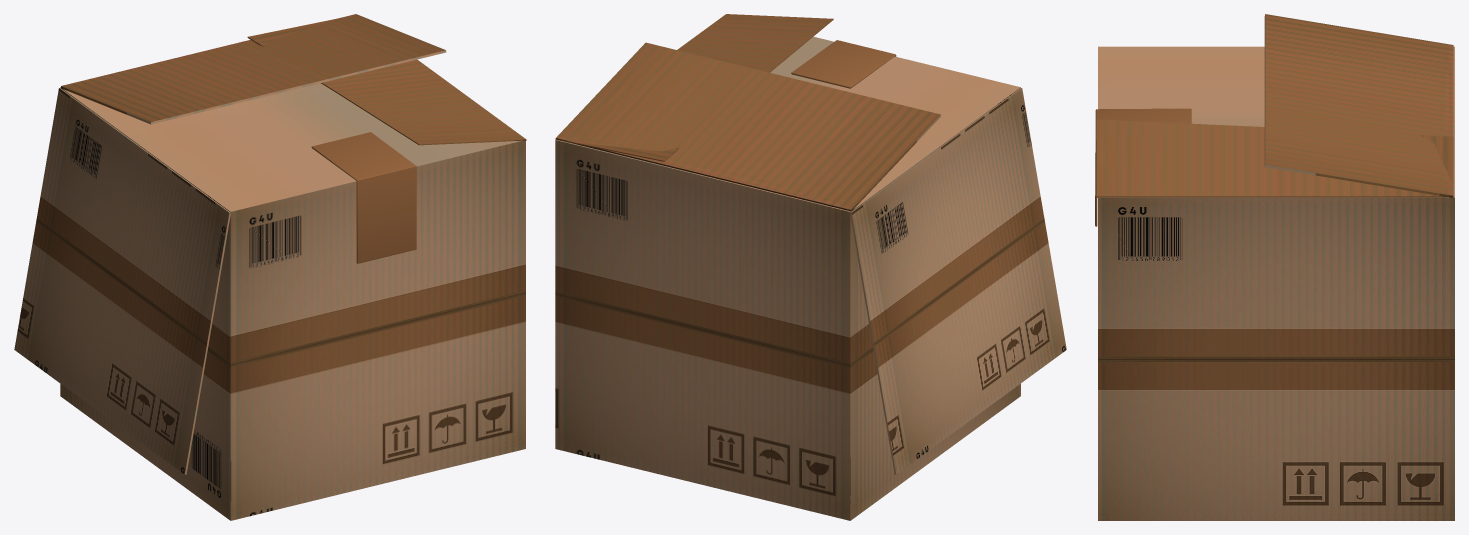
Rendered from package box.fbx.
3 renders of one model, left to right at view 1: azimuth 30°, elevation 25°; view 2: azimuth 150°, elevation 25°; view 3: azimuth 270°, elevation 25°, orthographic. The views are drawn at different scales.
Visible parts, largest first — view 1: box; view 2: box; view 3: box.
Part boxes in pixels (x1=…): box: x1=14, y1=14, x2=526, y2=520; box: x1=555, y1=14, x2=1066, y2=520; box: x1=1095, y1=14, x2=1454, y2=520.
Size of the model in its own units: 65.9 by 62.78 by 57.46.
